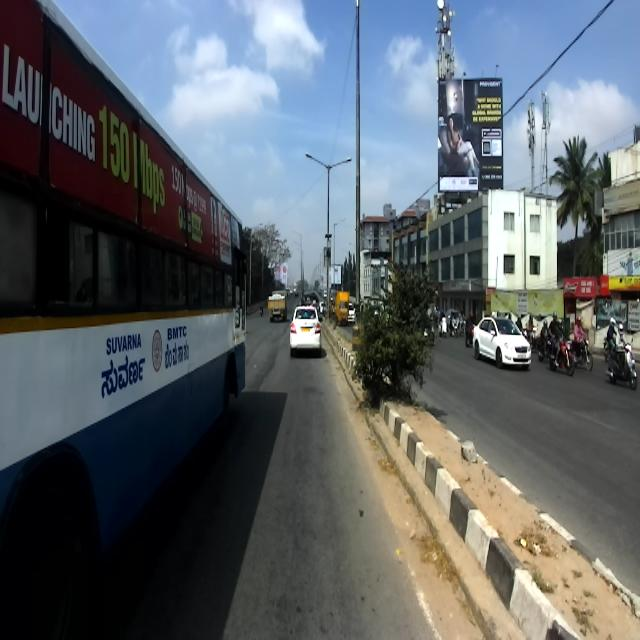car ahead at: (286, 301, 327, 359)
plant ahead at: (346, 262, 444, 417)
